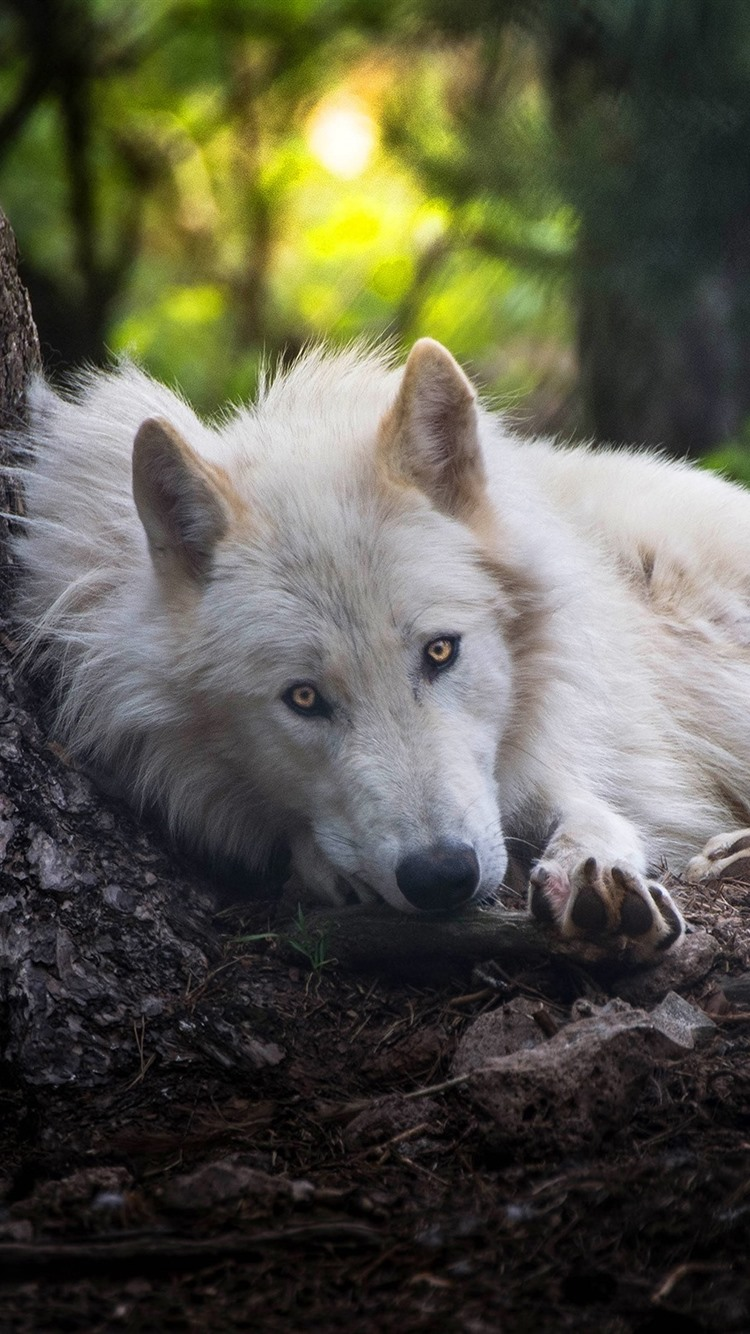Lobo: (90, 278, 718, 961)
